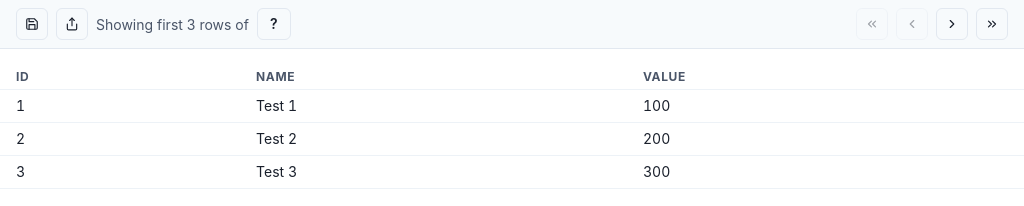
Scenario: PaginatedQueryResult › shows correct pagination message for middle pages
This screenshot has width=1024, height=206.
Note: Click Next button to go to page 2
What coordinates should you click on to do the following:
click the button named "next results"
I would click on:
 (952, 24)
Its box is [936,8,968,40].
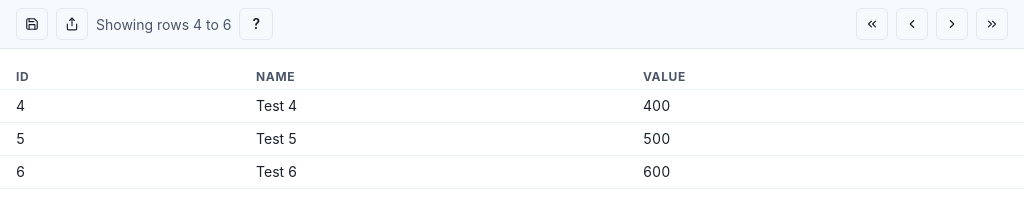
expect the button named "previous results" is enabled: met, box [896,8,928,40]
expect the text "Showing rows 4 to 6" is shown: met, box [96,14,232,34]
